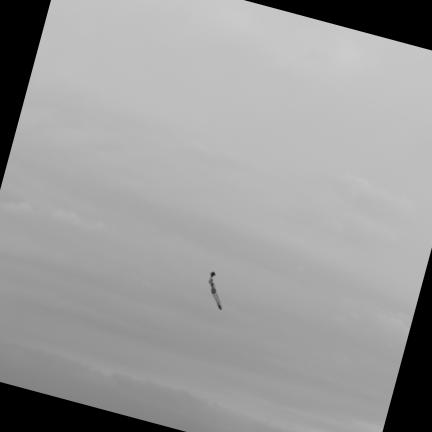Shahed: (208, 271, 221, 309)
